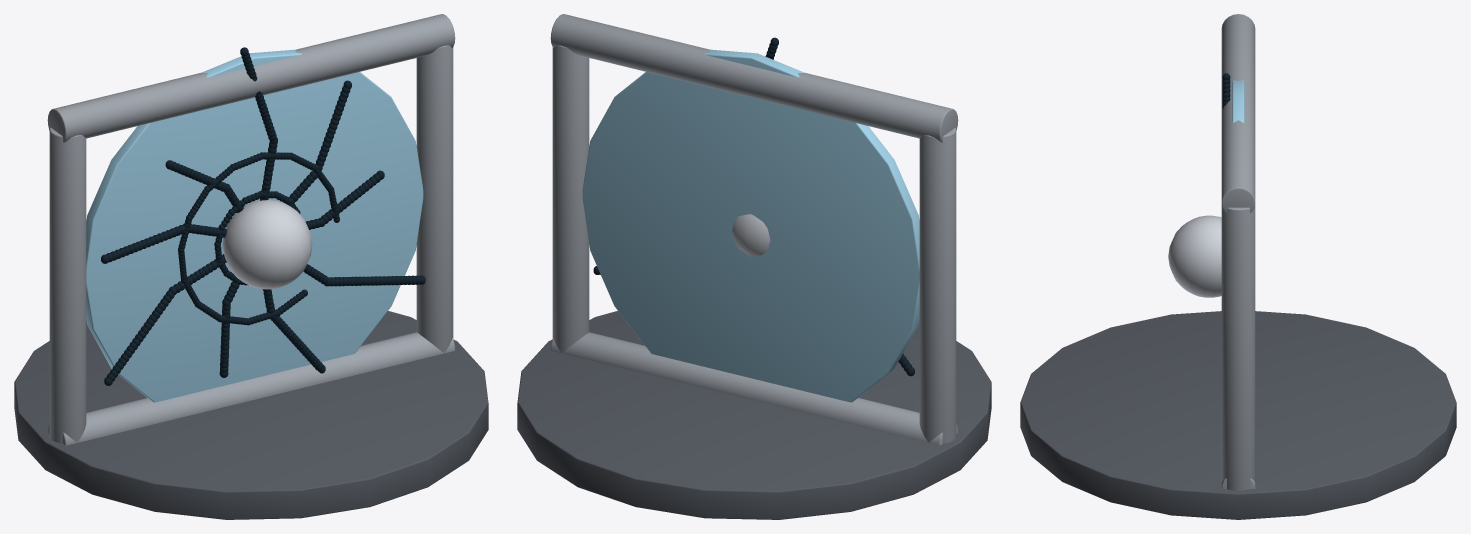
File: window_crack.glb
3 views of the same model, side by side, from view 1: azimuth 30°, elevation 25°; view 2: azimuth 150°, elevation 25°; view 3: azimuth 270°, elevation 25° (orthographic). The views are drawn at different scales.
Visible parts, largest first — view 1: window_crack; view 2: window_crack; view 3: window_crack.
Part boxes in pixels (<box>): window_crack: <box>14,14,488,519</box>; window_crack: <box>517,14,991,519</box>; window_crack: <box>1020,14,1456,519</box>.
Bounding box in the file's own units: 1.8 × 1.59 × 1.8.
